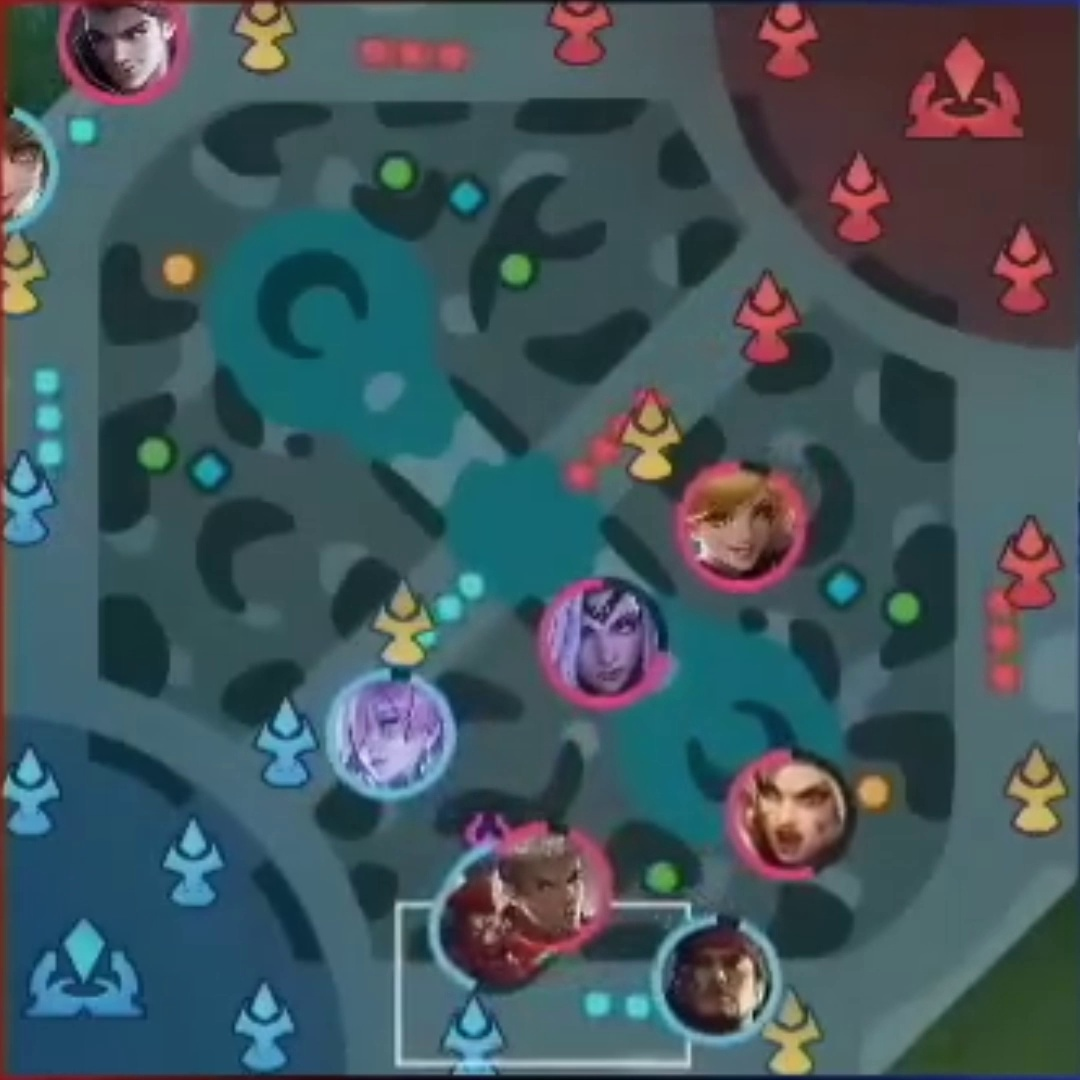Chou: (500, 834, 604, 943)
Claude: (64, 6, 187, 102)
Fanny: (691, 470, 787, 581)
Lapu-Lapu: (662, 915, 780, 1036)
Masha: (742, 753, 856, 877)
Minotaur: (447, 887, 541, 988)
Novaria: (336, 684, 450, 784)
Valentina: (551, 584, 656, 701)
Wanwan: (4, 110, 63, 234)
